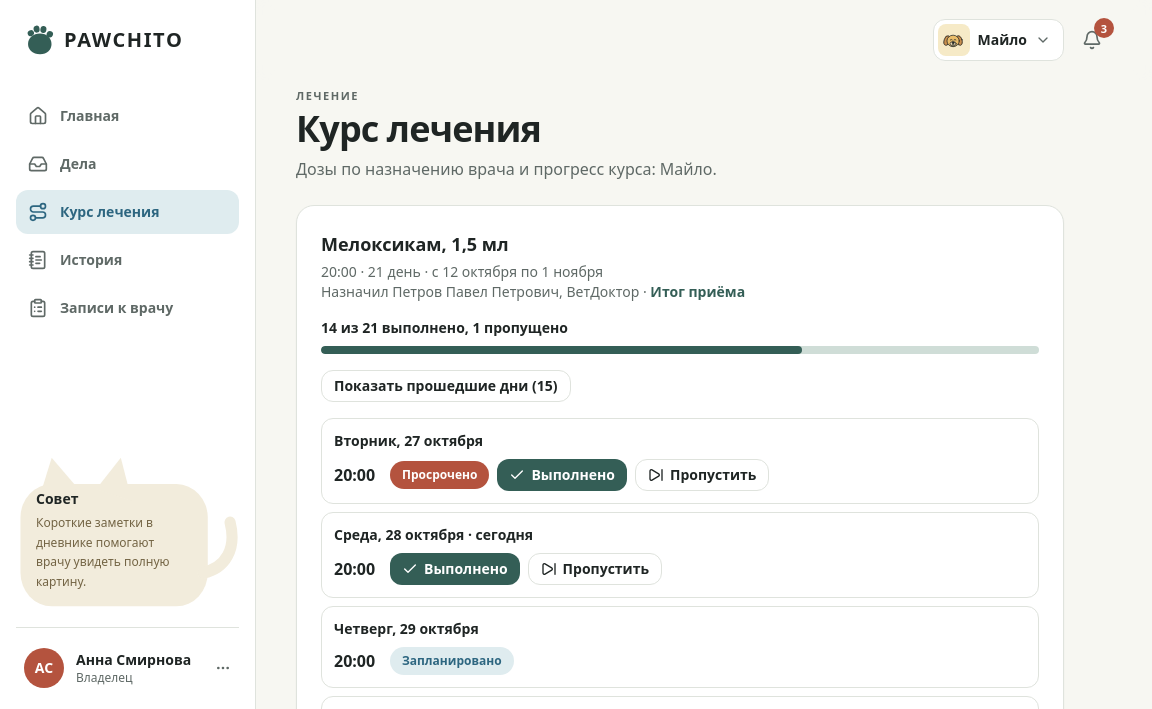
Test: CoursePage › пропуск дозы — с подтверждением
Click the button named "Пропустить, Мелоксикам, 1,5 мл, сегодня, 20:00".
click(595, 568)  # box left=528, top=552, right=662, bottom=584
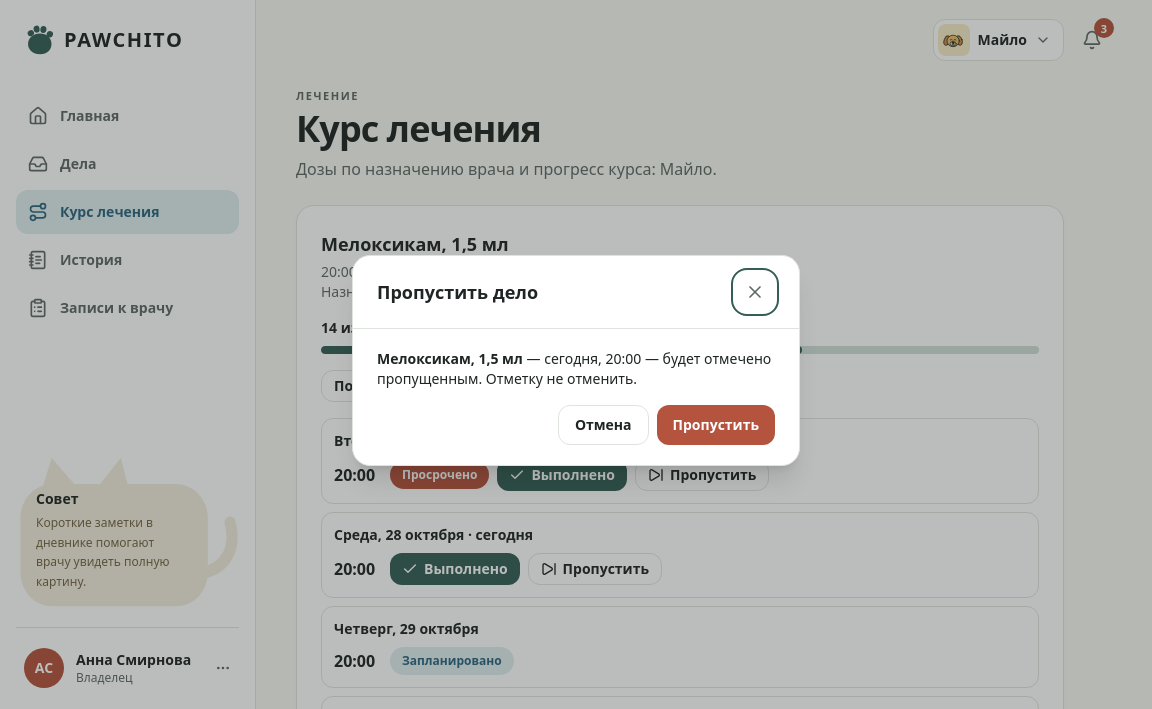
Click the button "Пропустить".
click(716, 424)  # box left=657, top=404, right=775, bottom=444
(page scrolled)
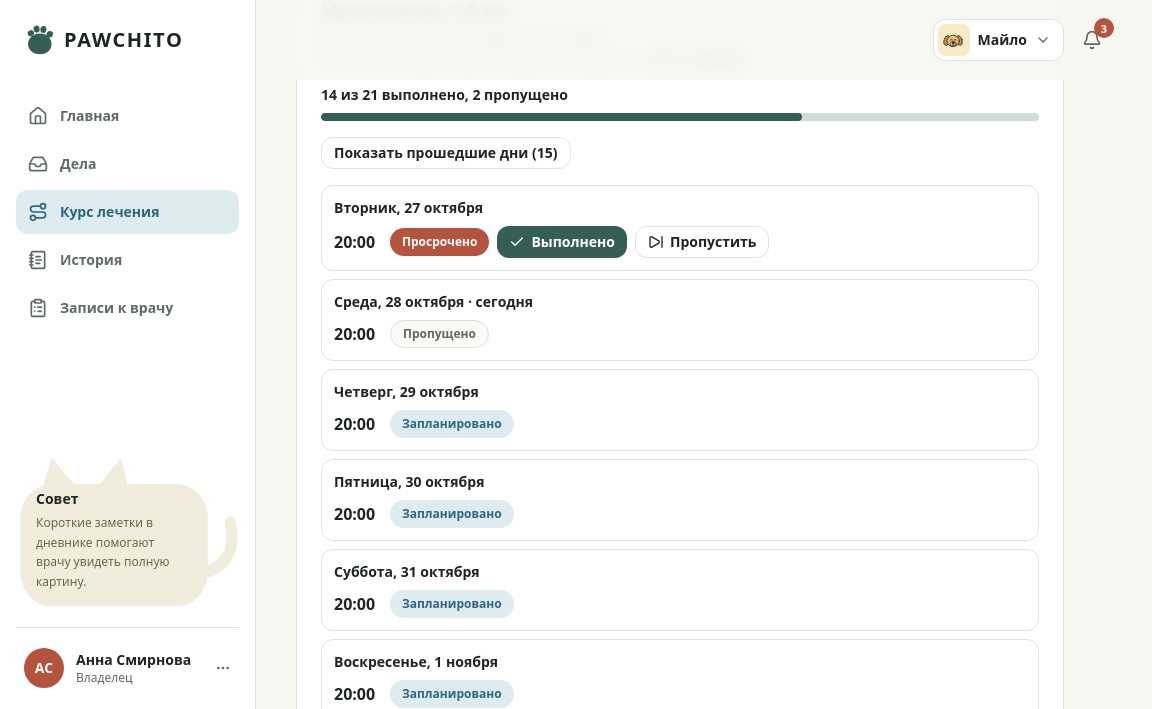
Now the text "14 из 21 выполнено, 2 пропущено" is shown, box left=321, top=84, right=568, bottom=104
